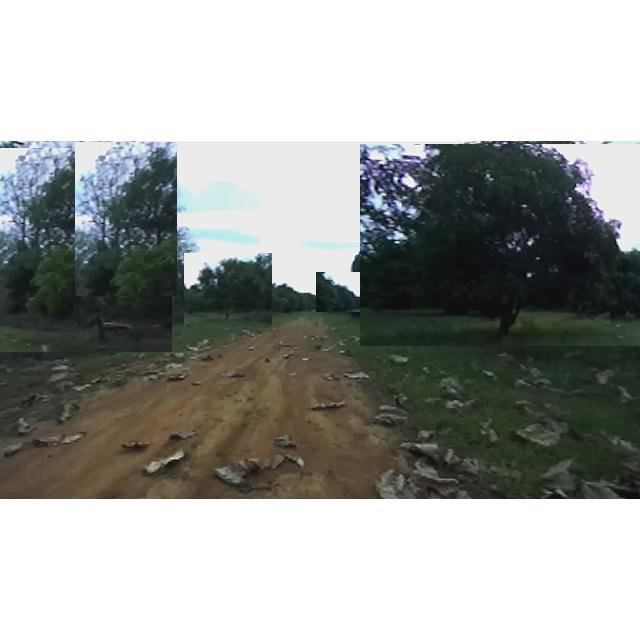direk: (360, 144, 640, 346), (0, 148, 172, 352), (75, 142, 177, 296), (334, 242, 434, 326), (184, 253, 272, 327), (254, 276, 306, 314), (316, 272, 360, 312)
